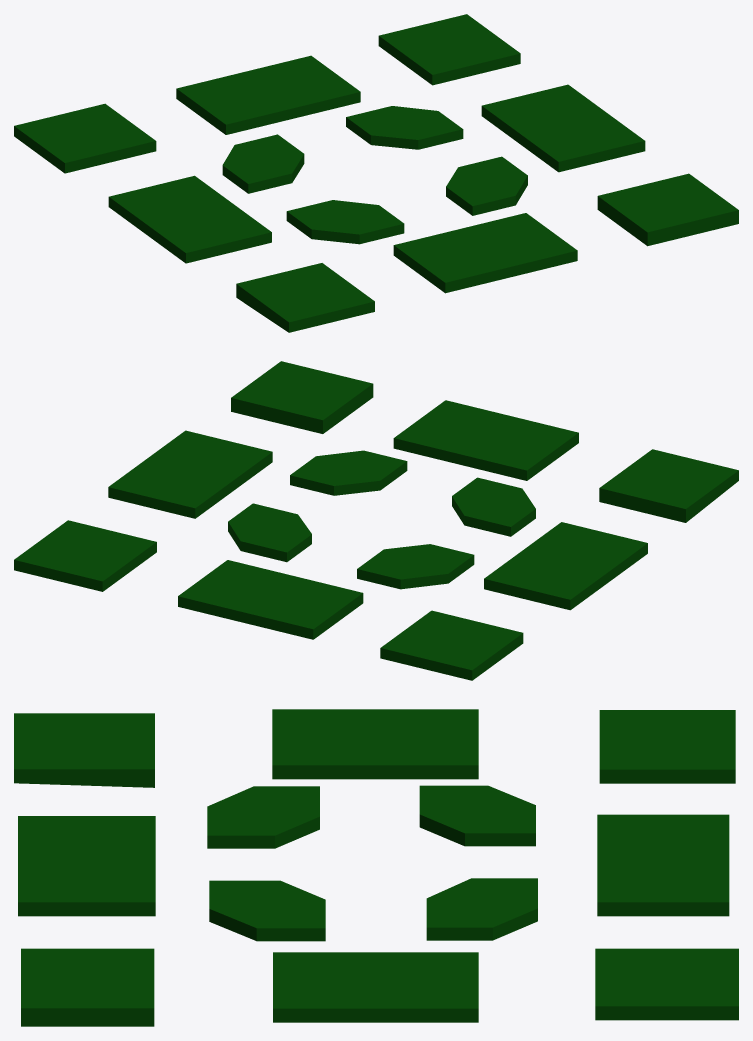
Rendered from GardenBeds.fbx.
3 renders of one model, top to bottom at view 1: azimuth 30°, elevation 25°; view 2: azimuth 150°, elevation 25°; view 3: azimuth 270°, elevation 25°, orthographic. The views are drawn at different scales.
Visible parts, largest first — view 1: pCube5, pCube19, pCube21, pCube20, pCube23, pCube24, pCube25, pCube22, pCube1, pCube26, pCube28, pCube27; view 2: pCube5, pCube19, pCube21, pCube20, pCube23, pCube22, pCube24, pCube25, pCube27, pCube28, pCube1, pCube26; view 3: pCube20, pCube21, pCube5, pCube19, pCube23, pCube24, pCube22, pCube25, pCube27, pCube28, pCube1, pCube26.
Part boxes in pixels (left/top/right/bottom): pCube5: left=393, top=213, right=577, bottom=293; pCube19: left=176, top=55, right=360, bottom=134; pCube21: left=481, top=84, right=645, bottom=172; pCube20: left=108, top=175, right=271, bottom=263; pCube23: left=597, top=173, right=738, bottom=246; pCube24: left=378, top=14, right=520, bottom=85; pCube25: left=14, top=103, right=156, bottom=173; pCube22: left=236, top=263, right=374, bottom=332; pCube1: left=286, top=200, right=404, bottom=244; pCube26: left=346, top=106, right=463, bottom=149; pCube28: left=222, top=134, right=304, bottom=193; pCube27: left=446, top=156, right=527, bottom=215; pCube5: left=393, top=400, right=578, bottom=480; pCube19: left=178, top=560, right=363, bottom=639; pCube21: left=108, top=430, right=272, bottom=518; pCube20: left=484, top=522, right=647, bottom=610; pCube23: left=231, top=361, right=373, bottom=433; pCube22: left=599, top=449, right=738, bottom=522; pCube24: left=14, top=520, right=156, bottom=591; pCube25: left=380, top=610, right=523, bottom=680; pCube27: left=290, top=450, right=407, bottom=495; pCube28: left=357, top=544, right=474, bottom=589; pCube1: left=452, top=477, right=535, bottom=536; pCube26: left=228, top=503, right=311, bottom=562; pCube20: left=272, top=709, right=478, bottom=779; pCube21: left=273, top=952, right=478, bottom=1022; pCube5: left=18, top=816, right=155, bottom=916; pCube19: left=597, top=814, right=729, bottom=916; pCube23: left=21, top=948, right=154, bottom=1026; pCube24: left=595, top=948, right=738, bottom=1020; pCube22: left=14, top=713, right=154, bottom=787; pCube25: left=599, top=710, right=735, bottom=783; pCube27: left=209, top=880, right=325, bottom=941; pCube28: left=419, top=785, right=535, bottom=846; pCube1: left=207, top=786, right=319, bottom=848; pCube26: left=426, top=878, right=537, bottom=940.
Bounding box in the file's own units: 1740 × 50.08 × 1780.
